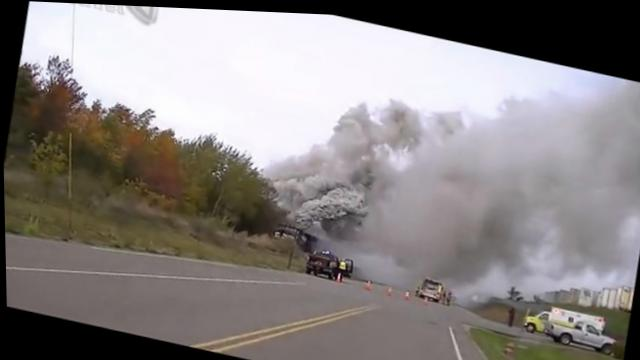smoke: (318, 93, 380, 183), (314, 173, 371, 242), (380, 94, 430, 153), (365, 146, 401, 216), (275, 142, 319, 195), (293, 189, 318, 226)
